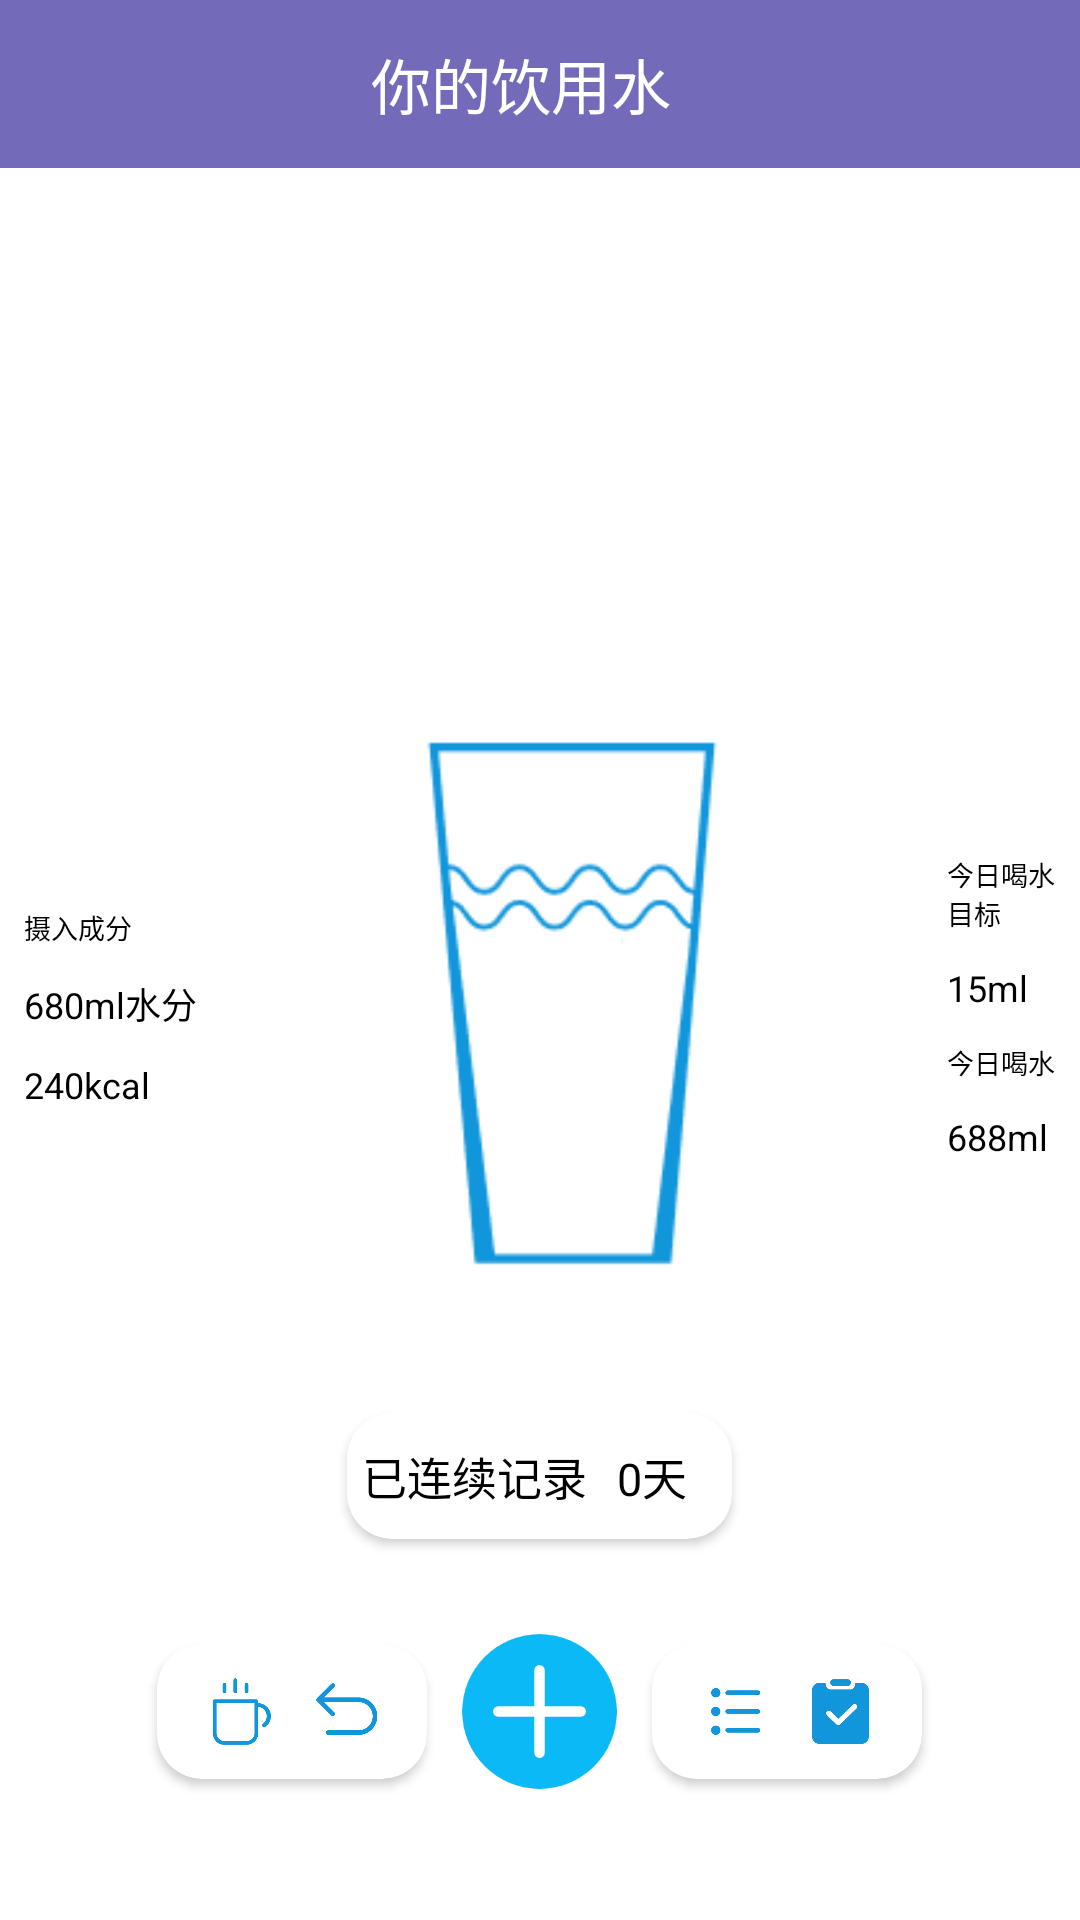

Named icons in this screenshot (1080px x 1920px) and their centers, point (x, y):
chexiao: point (346, 1709)
jiahao: point (539, 1711)
jiashui: point (242, 1711)
